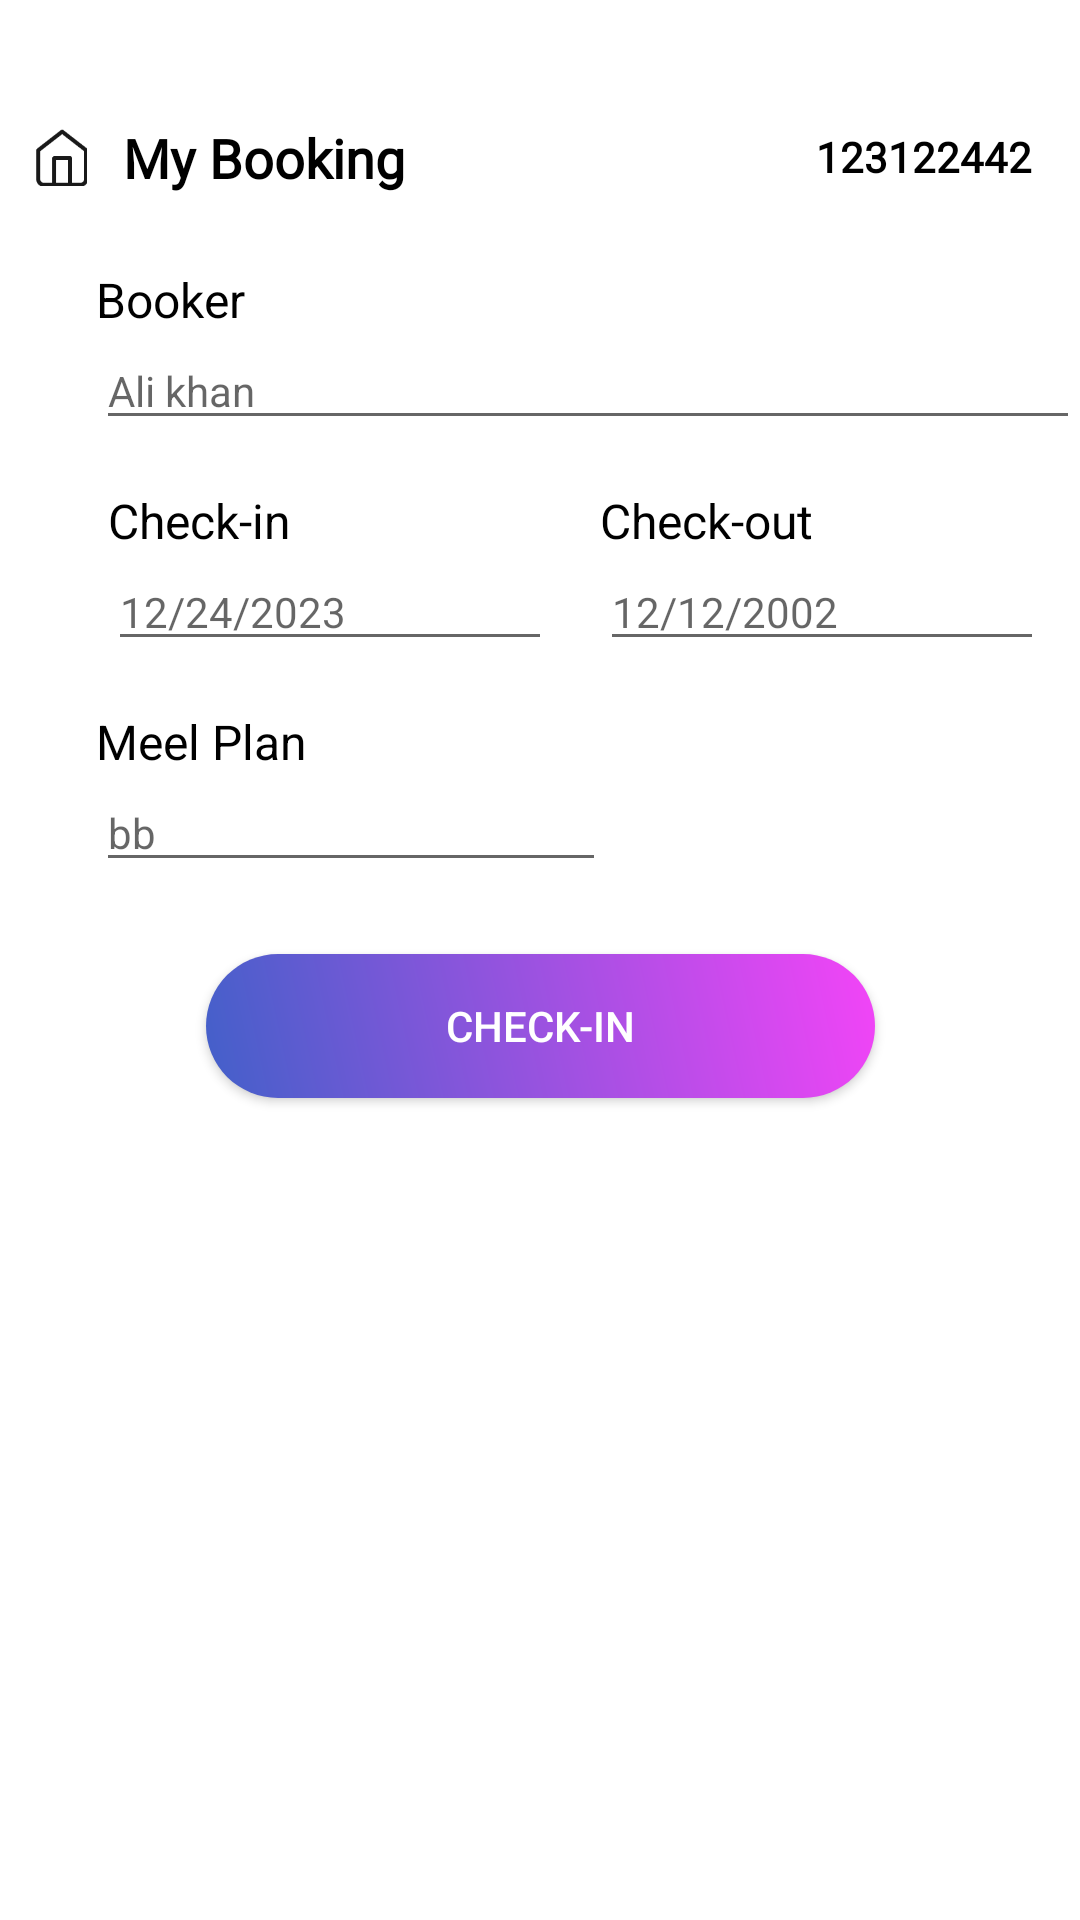

Screen size 1080px×1920px. Icon name, then its box in pixels as (x1, y1, x2, y2):
home: (36, 129, 87, 186)
